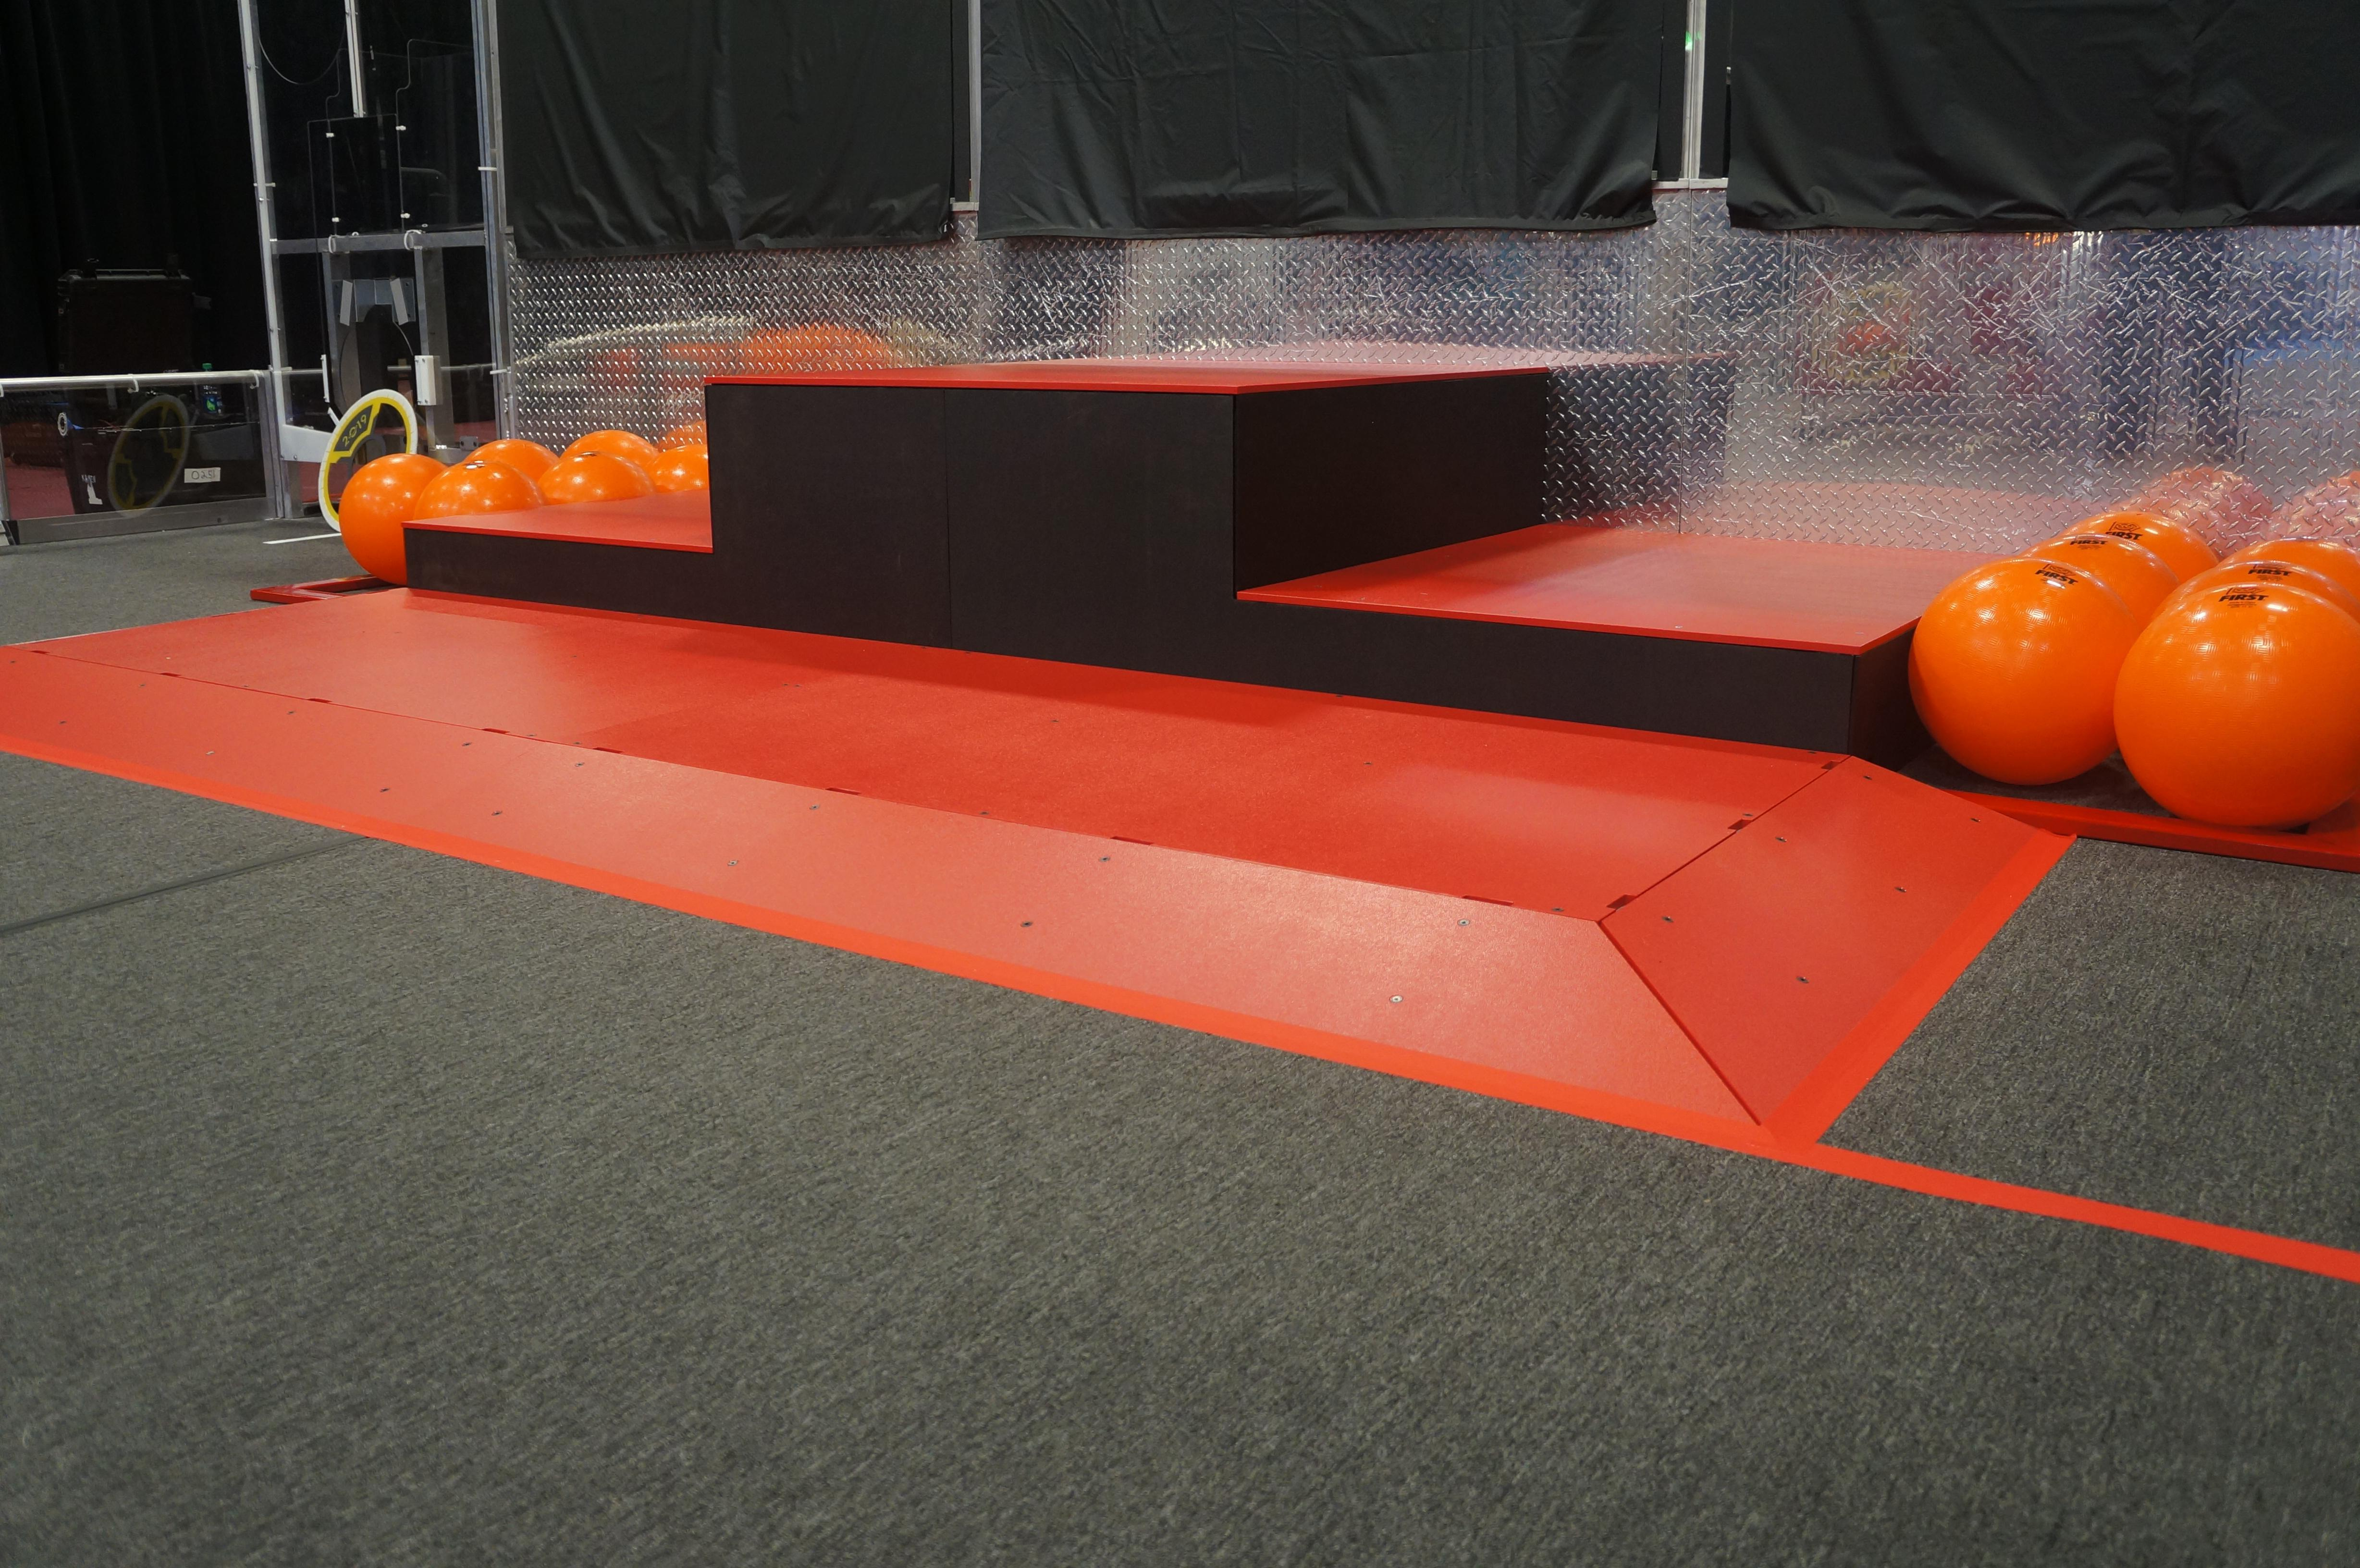Ball: (2120, 581, 2355, 829), (1905, 556, 2150, 787), (2029, 530, 2176, 674), (338, 453, 443, 591), (2161, 558, 2355, 618), (2080, 514, 2217, 588), (420, 457, 546, 525), (2211, 537, 2358, 572), (546, 453, 649, 502), (558, 429, 658, 474), (471, 434, 548, 485), (658, 437, 709, 492)
Hatch: (317, 388, 420, 532)
